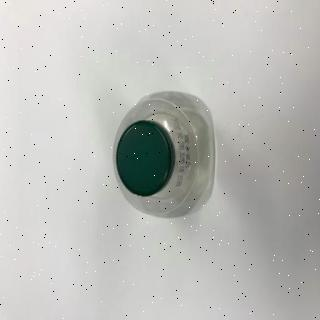Plastic-bottle: (113, 90, 219, 221)
